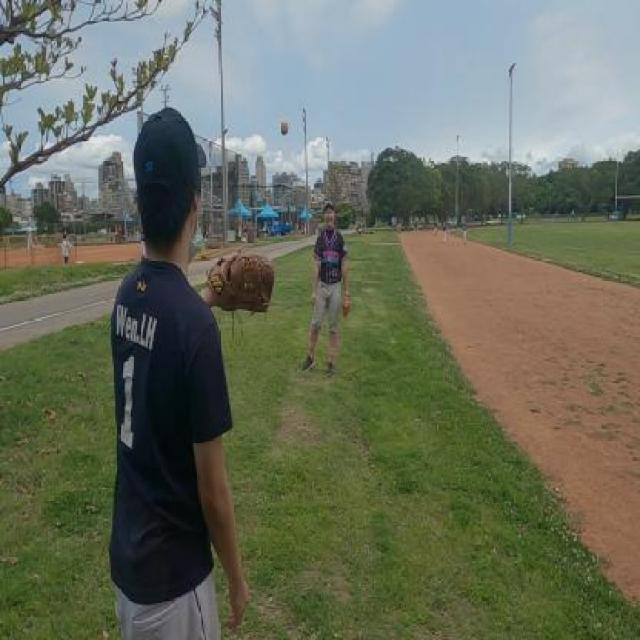baseball: (280, 119, 289, 136)
